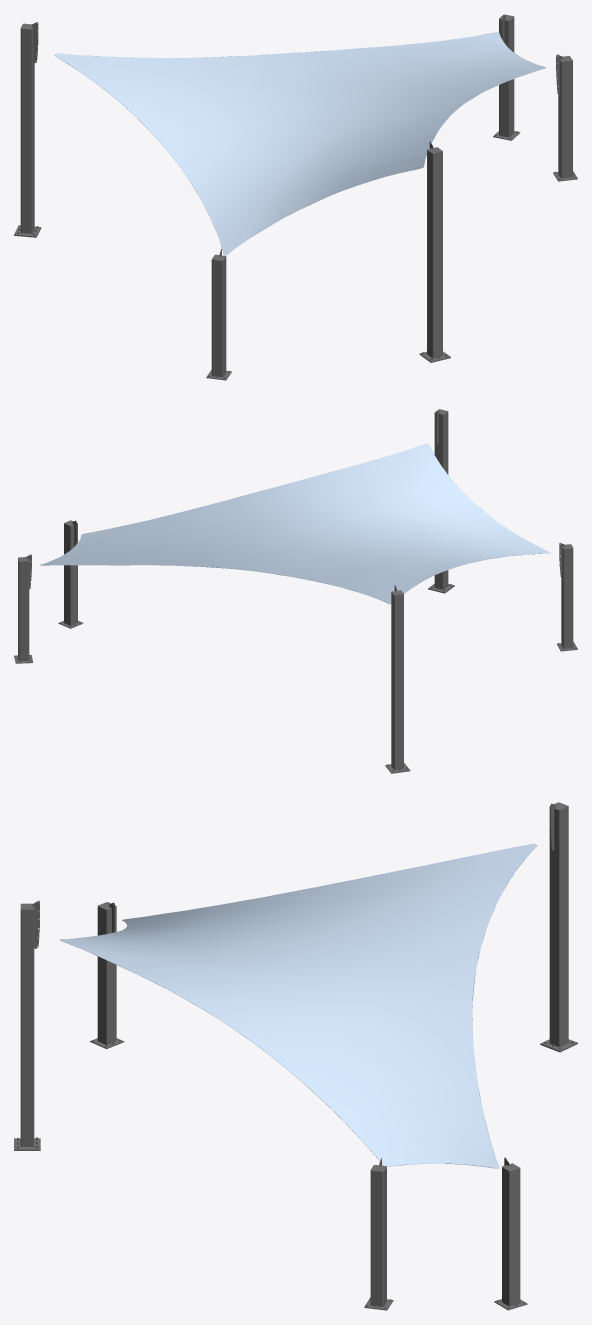
Rendered from vela-draco.glb.
The picture shows the model from 3 angles, top to bottom: view 1: azimuth 30°, elevation 25°; view 2: azimuth 150°, elevation 25°; view 3: azimuth 270°, elevation 25°; orthographic projection. The views are drawn at different scales.
Parts seen in each view (by area): view 1: Material2.039, Material2.036, Material2.037; view 2: Material2.039, Material2.036, Material2.037; view 3: Material2.039, Material2.036, Material2.037.
Part boxes in pixels (box(x1,y1,x2,y2)): Material2.039: box(54, 32, 546, 255); Material2.036: box(14, 14, 577, 380); Material2.037: box(17, 22, 503, 233); Material2.039: box(40, 443, 550, 604); Material2.036: box(14, 409, 577, 773); Material2.037: box(30, 585, 407, 771); Material2.039: box(60, 843, 537, 1168); Material2.036: box(14, 813, 577, 1310); Material2.037: box(549, 802, 573, 1047).
Size of the model in its own units: 3.42 by 1.42 by 2.96.
